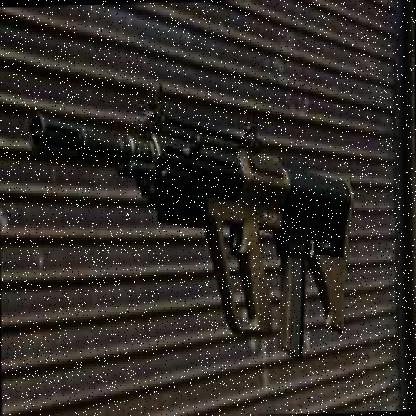rifle: (18, 90, 355, 376)
